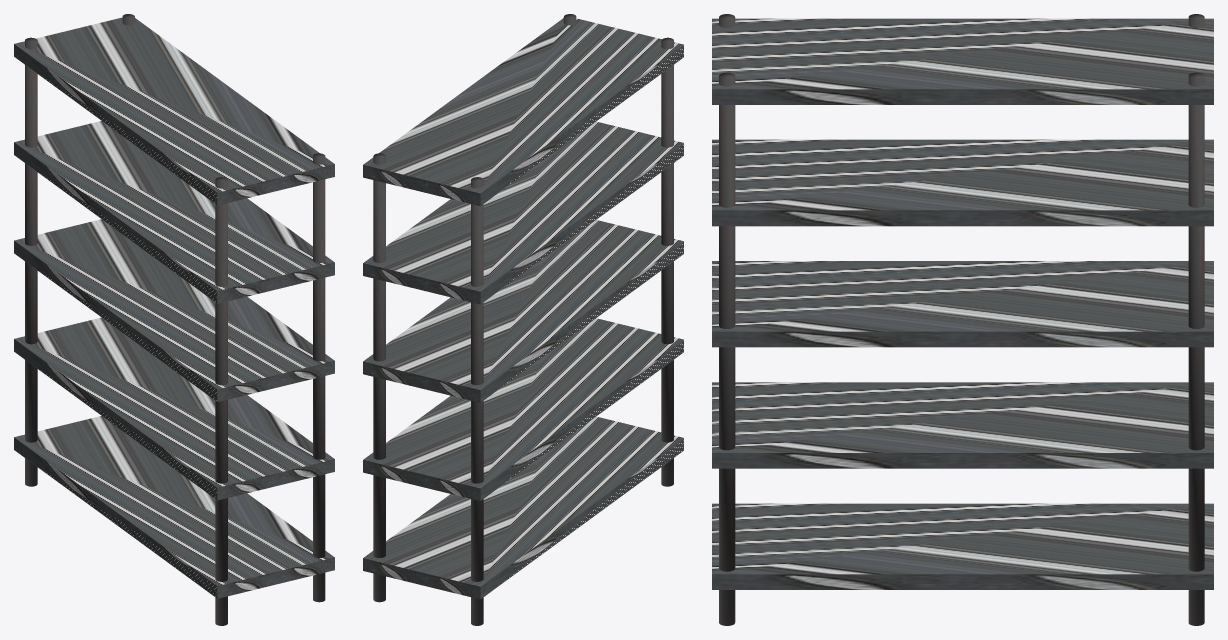
The model's file is shelves.fbx.
The picture shows the model from 3 angles, left to right: view 1: azimuth 30°, elevation 25°; view 2: azimuth 150°, elevation 25°; view 3: azimuth 270°, elevation 25°; orthographic projection. The views are drawn at different scales.
Visible parts, largest first — view 1: Wrack; view 2: Wrack; view 3: Wrack.
Part boxes in pixels (box(x1,y1,x2,y2)): Wrack: box(14, 14, 334, 625); Wrack: box(363, 14, 683, 625); Wrack: box(712, 14, 1213, 625).
Size of the model in its own units: 100 by 361 by 300.
Materials: 2 (2 with a texture image).
